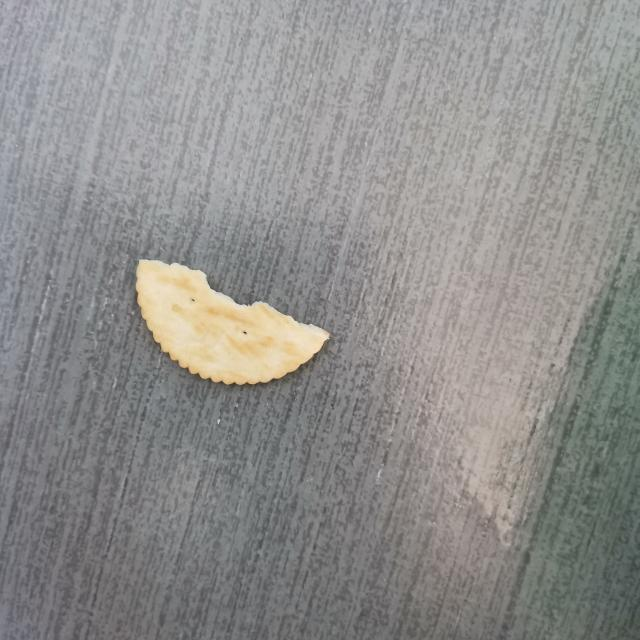Broken: (134, 257, 330, 386)
